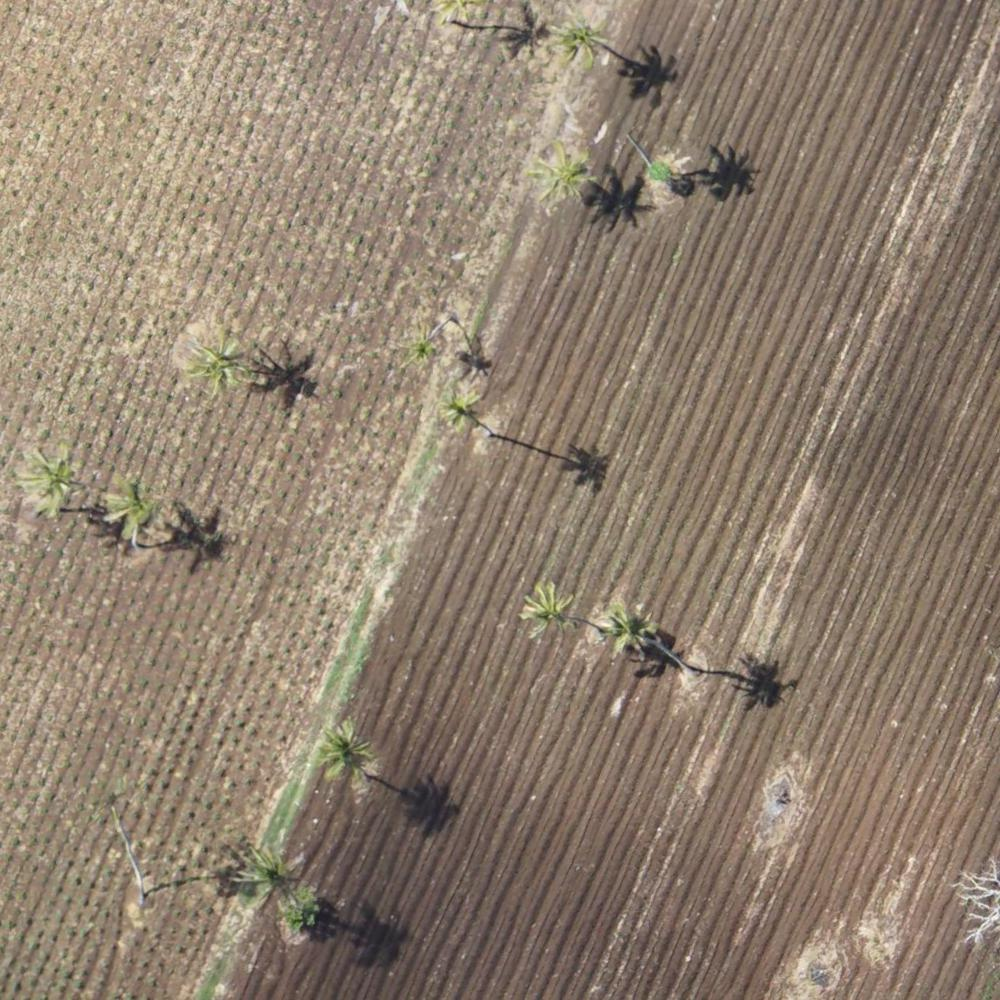Palm: (235, 843, 300, 909), (525, 142, 591, 204), (517, 581, 579, 642), (189, 330, 249, 392), (105, 474, 165, 533), (15, 451, 81, 504), (316, 722, 371, 781), (549, 6, 609, 60), (607, 600, 664, 656), (393, 317, 449, 372), (434, 382, 484, 429)
